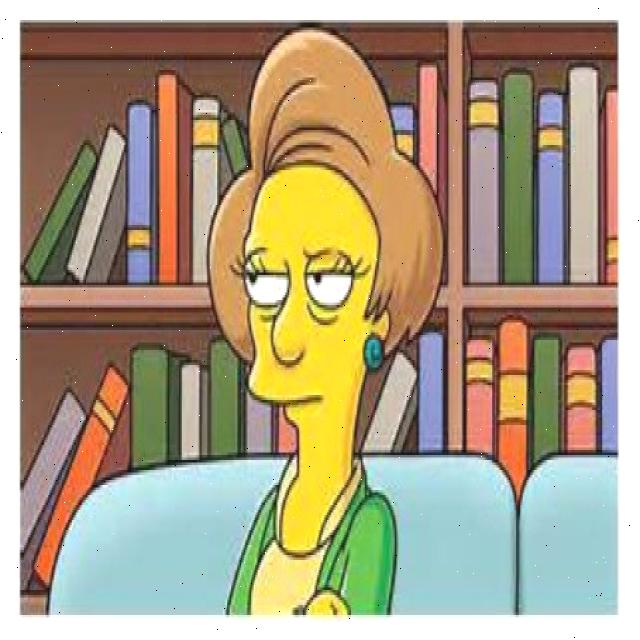Edna Krappel: (206, 22, 452, 538)
